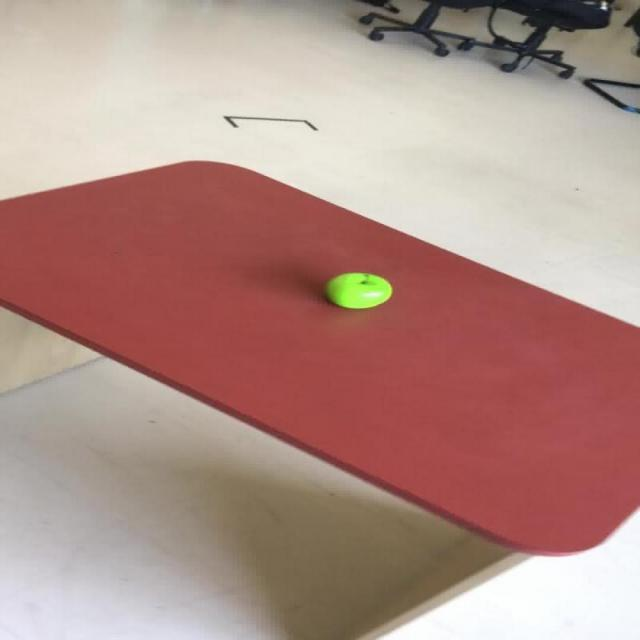Apple: (324, 272, 392, 308)
